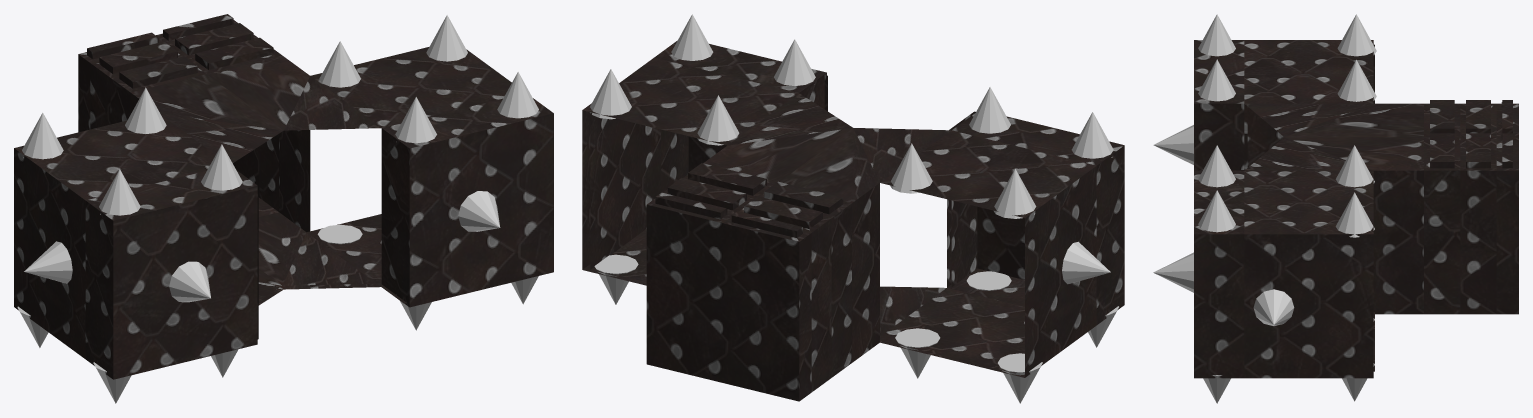
Rendered from ArmaduraP1.fbx.
The picture shows the model from 3 angles, left to right: view 1: azimuth 30°, elevation 25°; view 2: azimuth 150°, elevation 25°; view 3: azimuth 270°, elevation 25°; orthographic projection. The views are drawn at different scales.
Parts seen in each view (by area): view 1: Armadura, Armadura.001; view 2: Armadura, Armadura.001; view 3: Armadura, Armadura.001.
Part boxes in pixels (bbox=[...]): Armadura: bbox=[14, 14, 553, 403]; Armadura.001: bbox=[157, 20, 406, 339]; Armadura: bbox=[582, 14, 1124, 403]; Armadura.001: bbox=[590, 75, 1024, 373]; Armadura: bbox=[1153, 14, 1518, 403]; Armadura.001: bbox=[1198, 44, 1502, 371].
Bounding box in the file's own units: 686 × 295 × 461.
